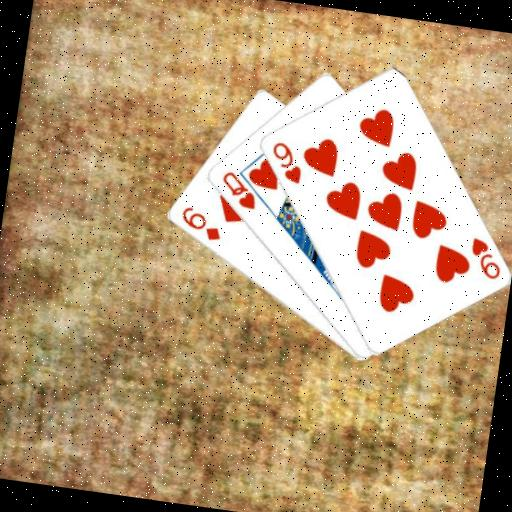6D: (175, 202, 225, 244)
9H: (265, 137, 308, 186), (464, 234, 507, 282)
QH: (215, 167, 261, 212)
